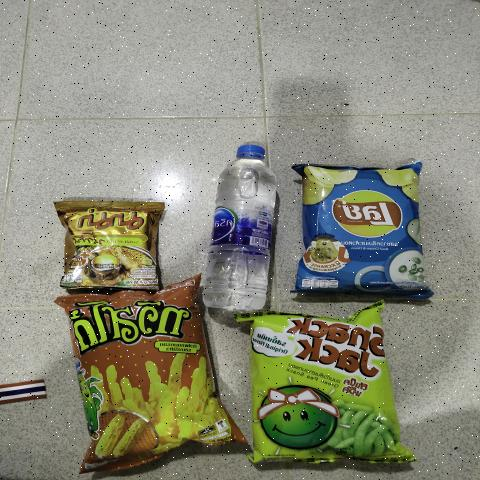crystal: (205, 162, 276, 294)
lay_blue: (292, 168, 423, 294)
mama: (61, 205, 152, 284)
snack_jack: (255, 320, 382, 460)
twisco: (87, 293, 195, 468)
